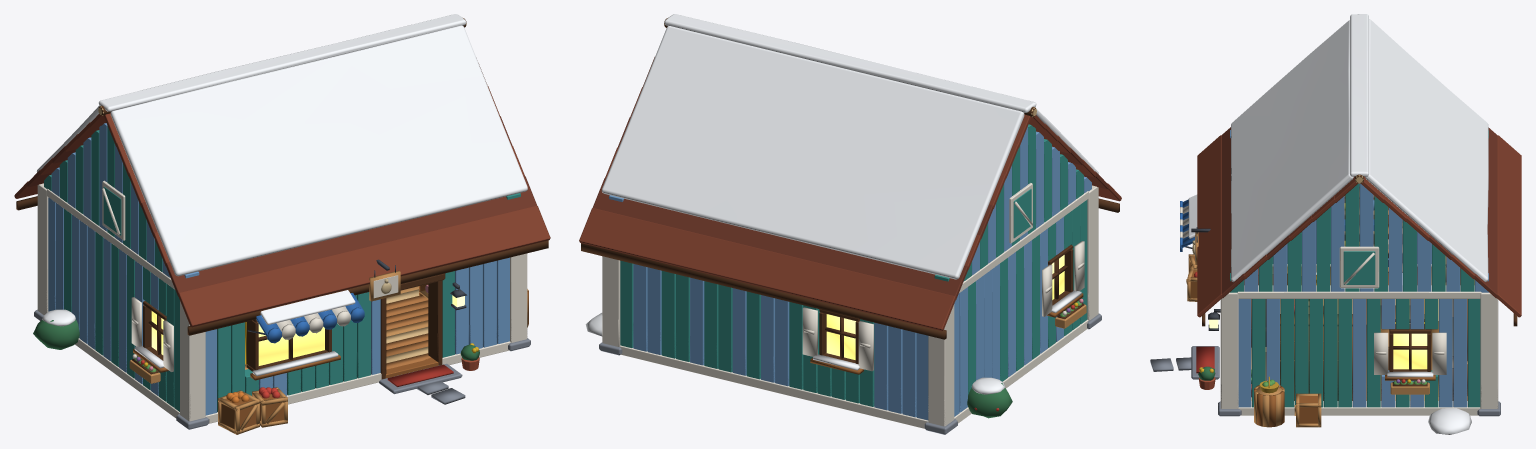
The model's file is shop.glb.
3 views of the same model, side by side, from view 1: azimuth 30°, elevation 25°; view 2: azimuth 150°, elevation 25°; view 3: azimuth 270°, elevation 25° (orthographic). The views are drawn at different scales.
Visible parts, largest first — view 1: roof, walls, exterior, floor, walls_low; view 2: roof, walls, walls_low, exterior; view 3: roof, walls, exterior, interior, floor, walls_low.
Part boxes in pixels (<box>): roof: <box>14,14,550,335</box>; walls: <box>34,183,530,429</box>; exterior: <box>33,289,528,434</box>; floor: <box>245,286,462,394</box>; walls_low: <box>38,287,527,420</box>; roof: <box>579,14,1121,339</box>; walls: <box>599,185,1101,434</box>; walls_low: <box>602,287,1098,425</box>; exterior: <box>585,313,1012,418</box>; roof: <box>1197,14,1521,326</box>; walls: <box>1180,184,1500,416</box>; exterior: <box>1150,254,1471,434</box>; interior: <box>1251,187,1474,400</box>; floor: <box>1191,266,1467,400</box>; walls_low: <box>1221,244,1497,408</box>.
Bounding box in the file's own units: 7.68 × 4.96 × 6.58.
